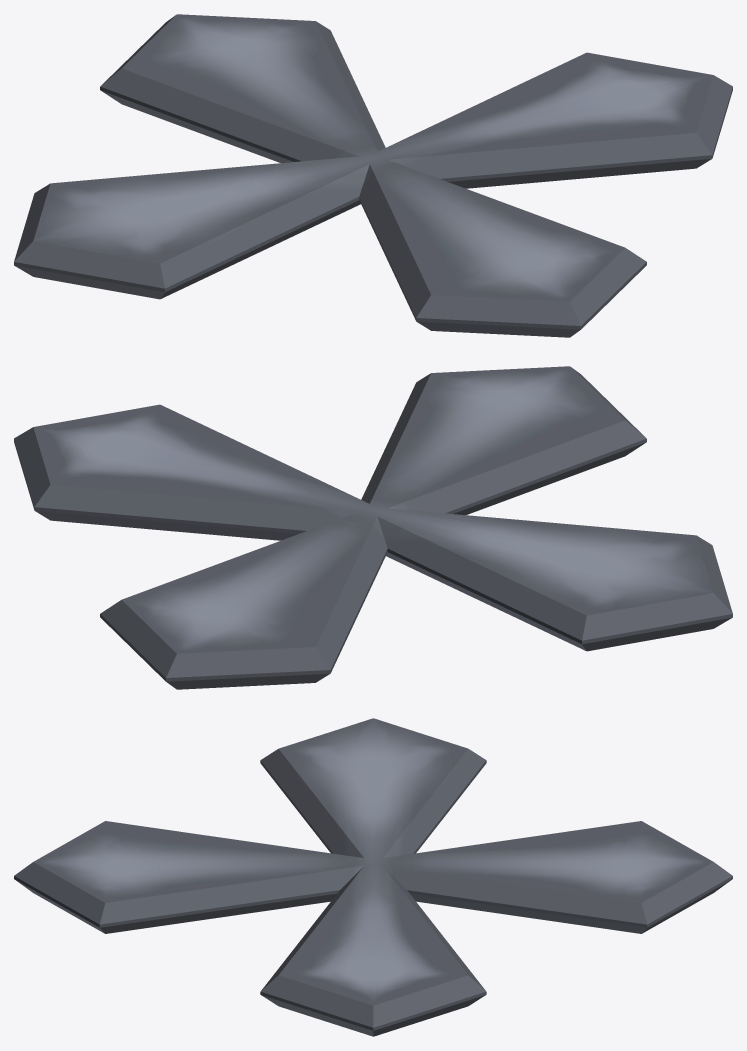
Rendered from FanBladesStatic.fbx.
3 renders of one model, top to bottom at view 1: azimuth 30°, elevation 25°; view 2: azimuth 150°, elevation 25°; view 3: azimuth 270°, elevation 25°, orthographic. The views are drawn at different scales.
Visible parts, largest first — view 1: FanBlades; view 2: FanBlades; view 3: FanBlades.
Part boxes in pixels (box(x1,y1,x2,y2)): FanBlades: box(14, 14, 732, 337); FanBlades: box(14, 366, 732, 689); FanBlades: box(14, 718, 732, 1036).
Bounding box in the file's own units: 200 × 9.54 × 200.
1 material, 1 textured.
